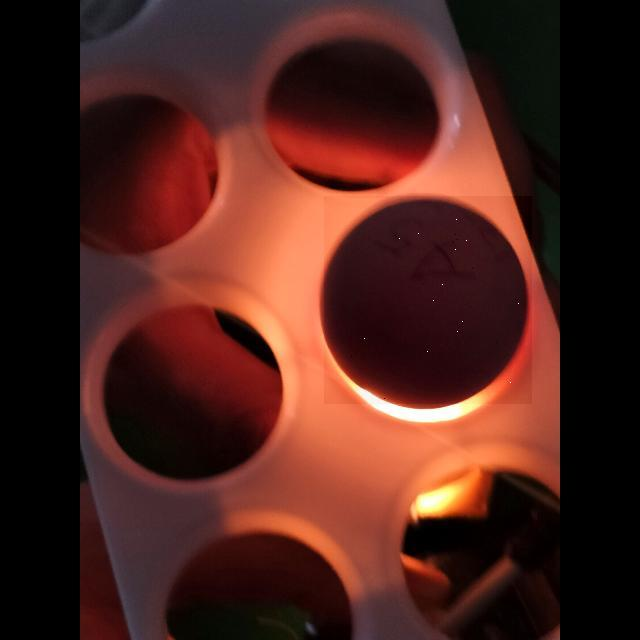B - Fair: (324, 196, 532, 404)
